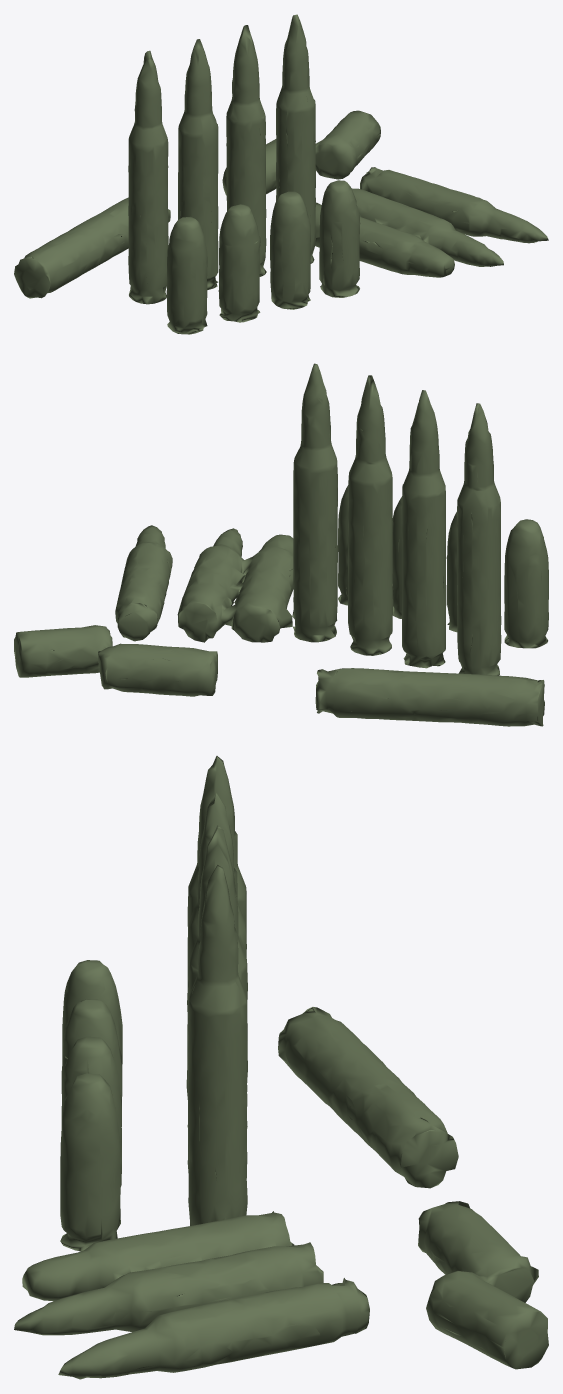
Rendered from caja-municion.glb.
3 renders of one model, top to bottom at view 1: azimuth 30°, elevation 25°; view 2: azimuth 150°, elevation 25°; view 3: azimuth 270°, elevation 25°, orthographic. The views are drawn at different scales.
Size of the model in its own units: 3.1 by 1.69 by 2.13.
